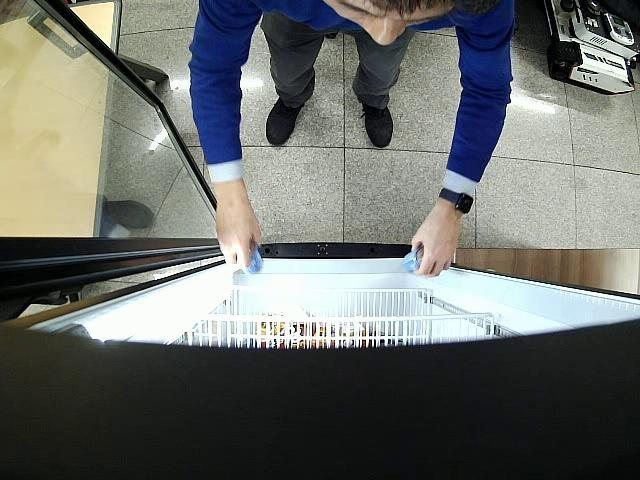15_letsbe: (401, 245, 424, 274), (246, 241, 264, 275)
